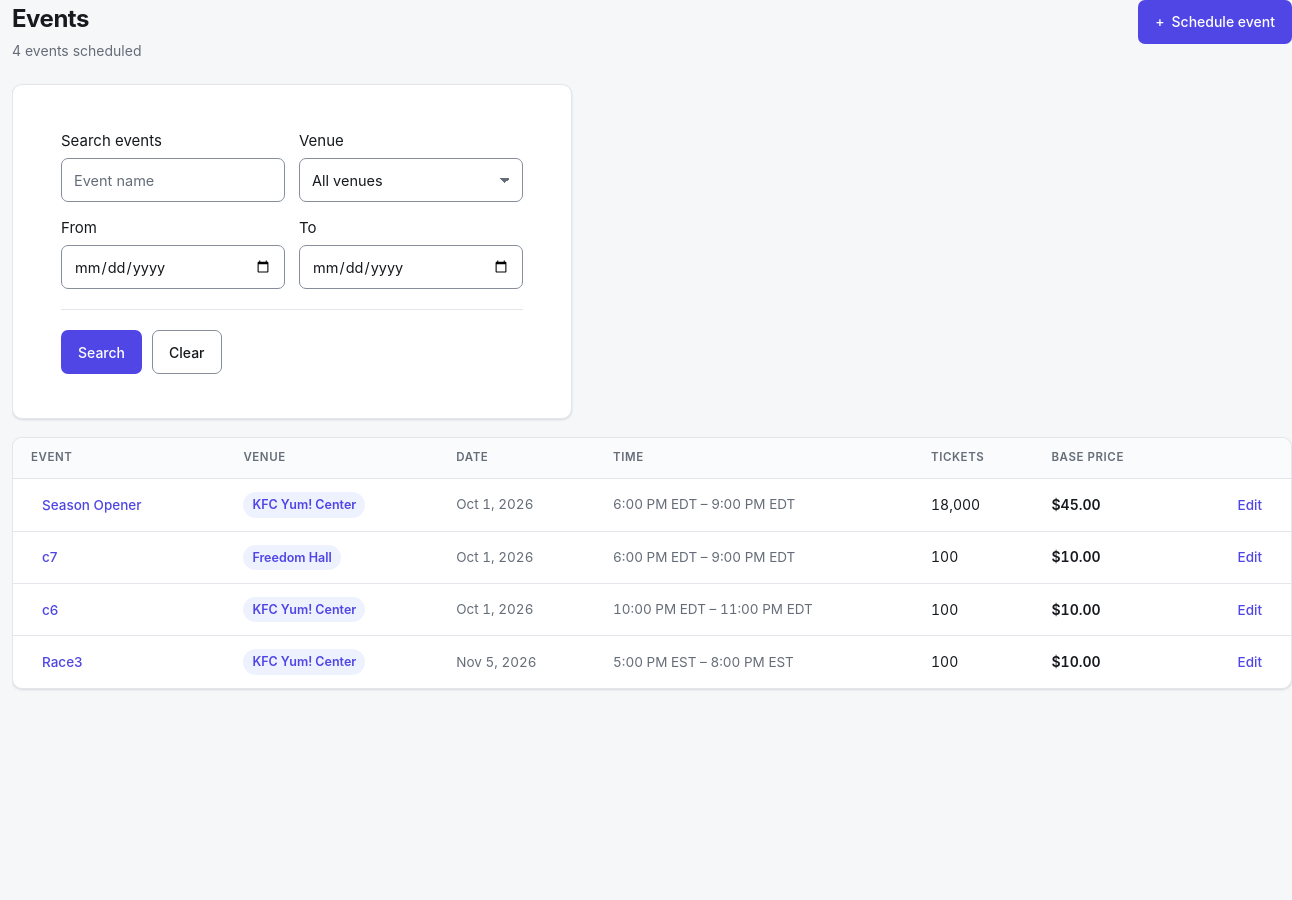
Test: Event search › refuses a from date after the to date without asking the Backend
The width and height of the screenshot is (1292, 900).
expect the link "Season Opener" is shown: met, box [42,497,142,513]
Type "2026-11-05" into the date field labelled "From" at (173, 267), box [61,245,285,289]
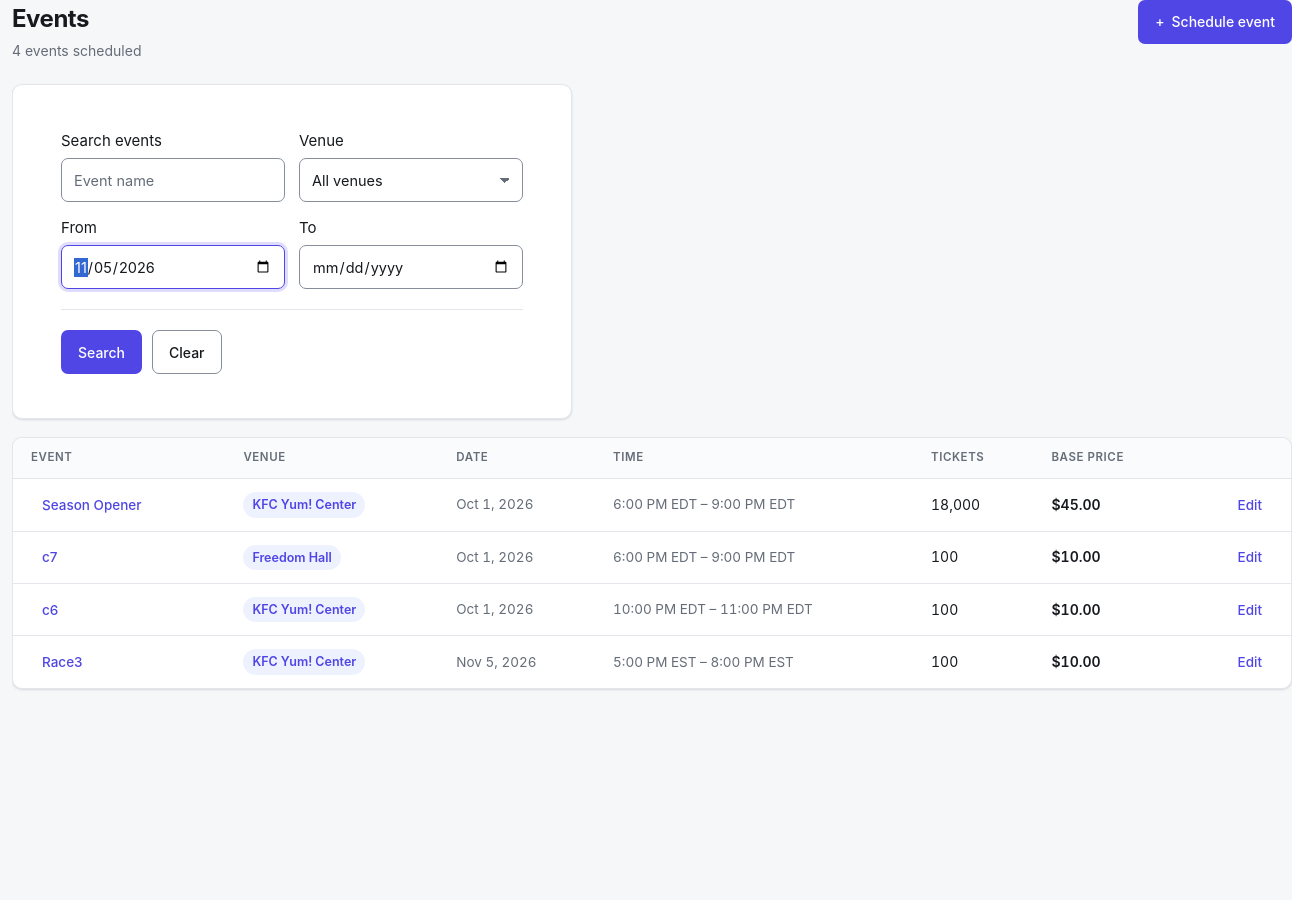
Type "2026-11-01" into the date field labelled "To" at (411, 267), box [299,245,523,289]
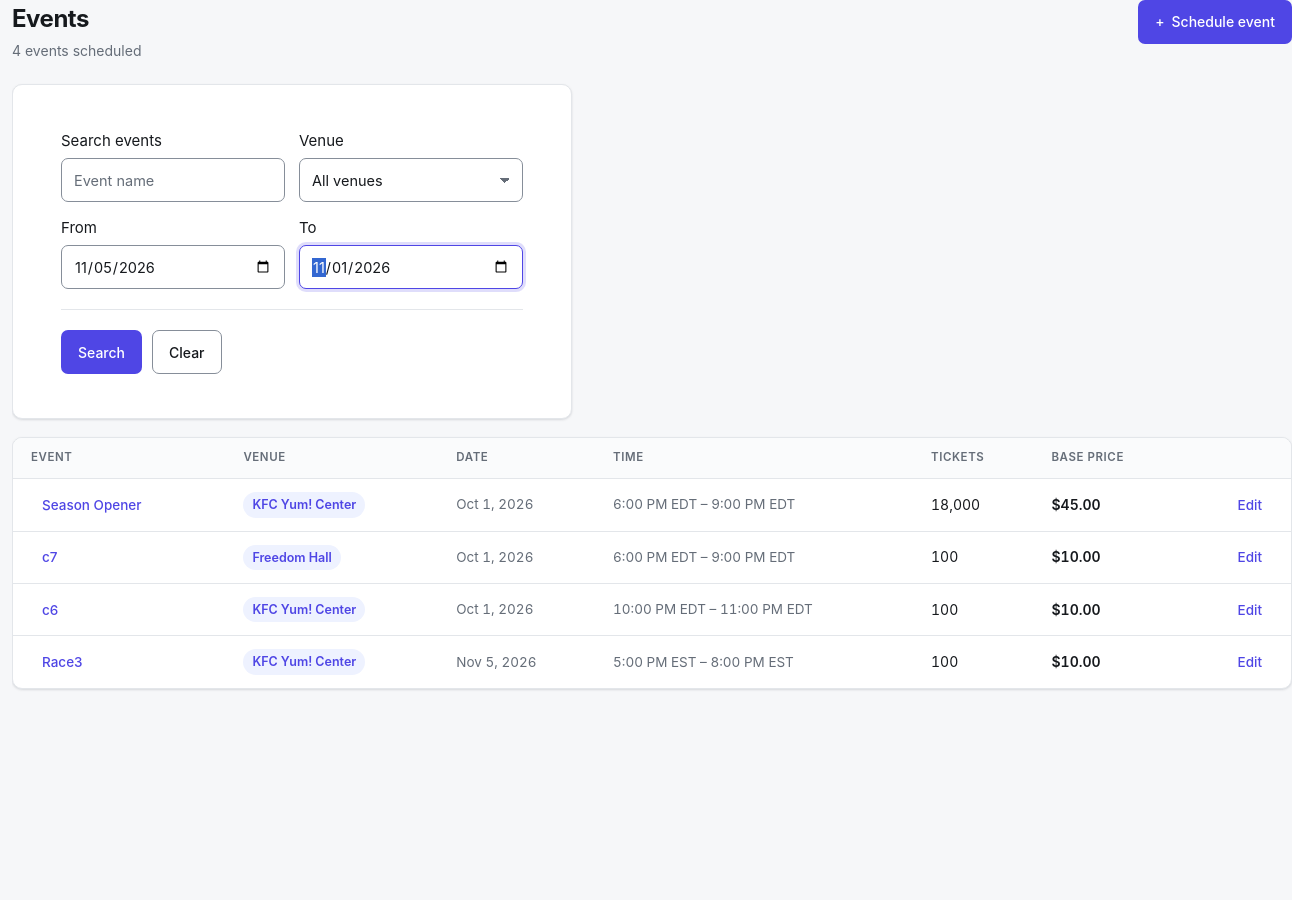
Click the button "Search" at (102, 352), box [61,330,142,374]
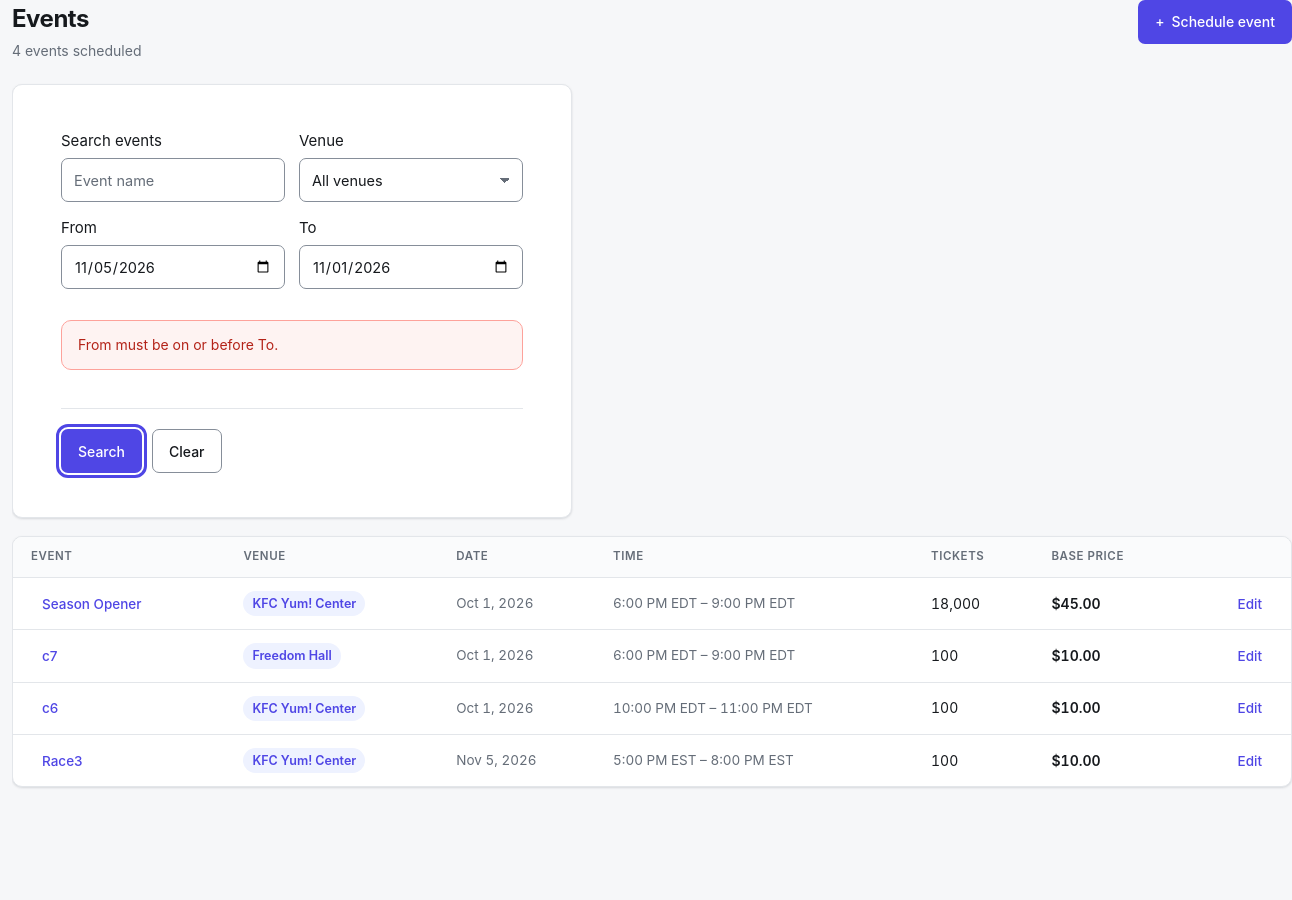
expect the message shows "From must be on or before To": met, box [78,336,278,353]
